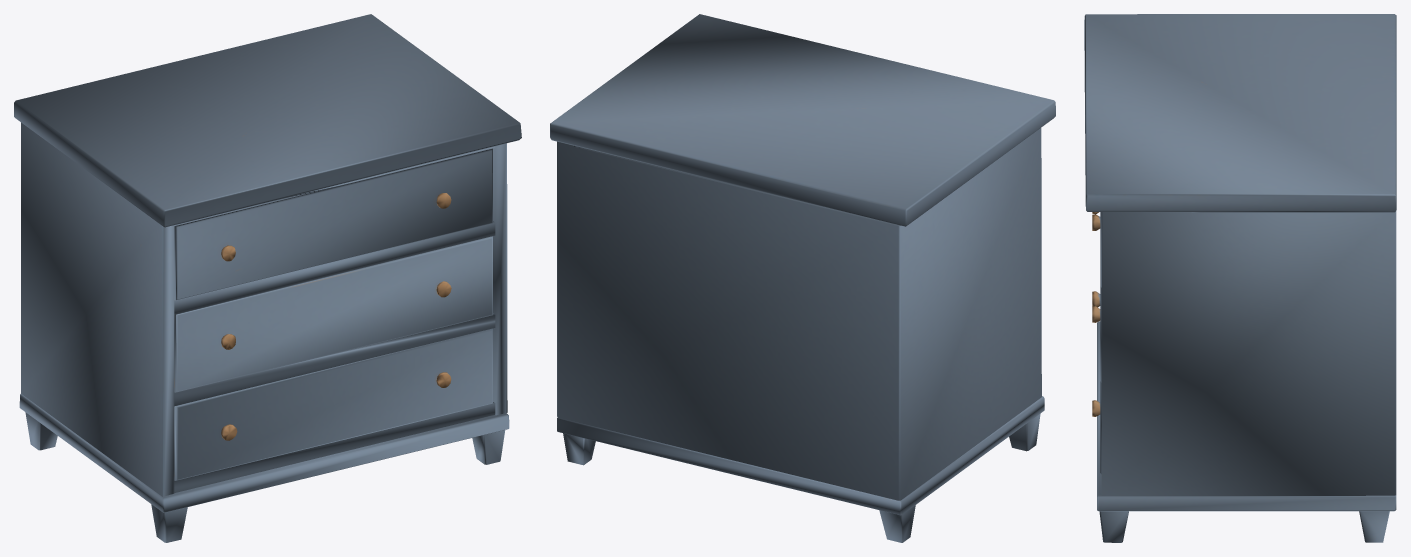
Rendered from dresser.fbx.
3 renders of one model, left to right at view 1: azimuth 30°, elevation 25°; view 2: azimuth 150°, elevation 25°; view 3: azimuth 270°, elevation 25°, orthographic. The views are drawn at different scales.
Parts seen in each view (by area): view 1: Mesh_0; view 2: Mesh_0; view 3: Mesh_0.
Part boxes in pixels (bbox=[...]): Mesh_0: bbox=[14, 14, 521, 542]; Mesh_0: bbox=[550, 14, 1055, 542]; Mesh_0: bbox=[1084, 14, 1396, 542].
Bounding box in the file's own units: 94.97 × 86.52 × 69.09.
1 material, 1 textured.
